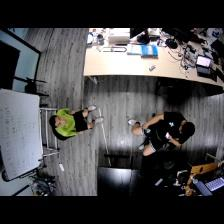normal: (129, 108, 197, 158), (49, 105, 104, 138)
